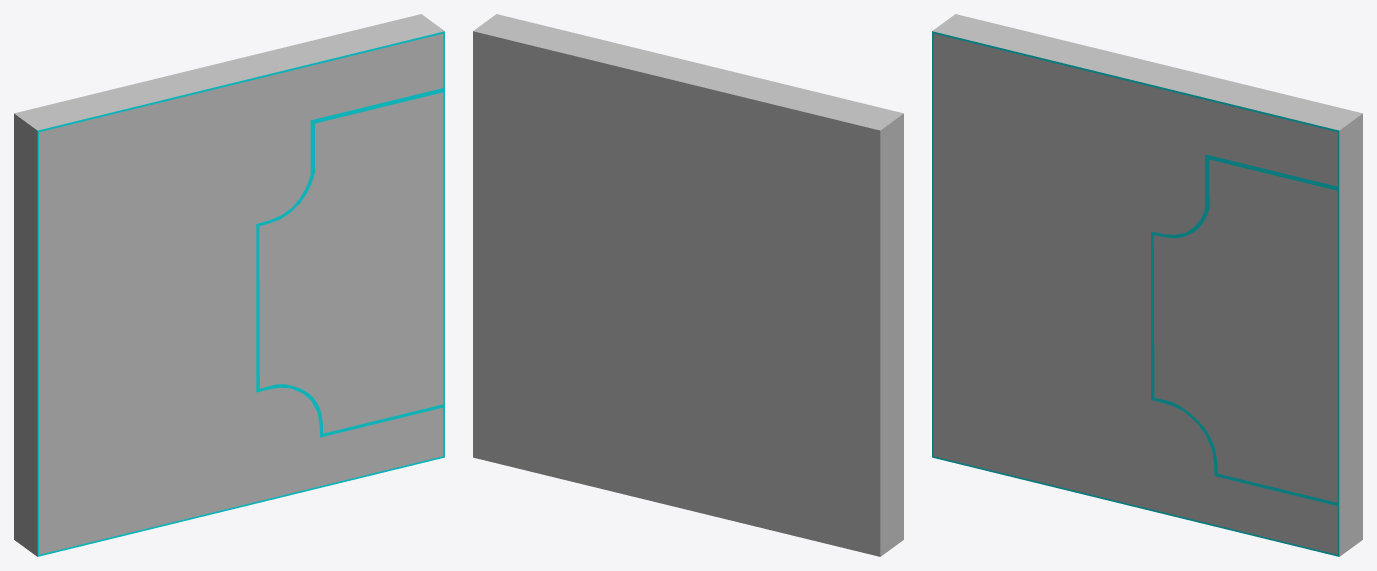
File: Wall_010.fbx
The picture shows the model from 3 angles, left to right: view 1: azimuth 30°, elevation 25°; view 2: azimuth 150°, elevation 25°; view 3: azimuth 330°, elevation 25°; orthographic projection.
Parts seen in each view (by area): view 1: Wall_010; view 2: Wall_010; view 3: Wall_010.
Part boxes in pixels (box(x1,y1,x2,y2)): Wall_010: box(14, 14, 444, 556); Wall_010: box(473, 14, 903, 556); Wall_010: box(932, 14, 1362, 556).
Bounding box in the file's own units: 300 × 300 × 30.
